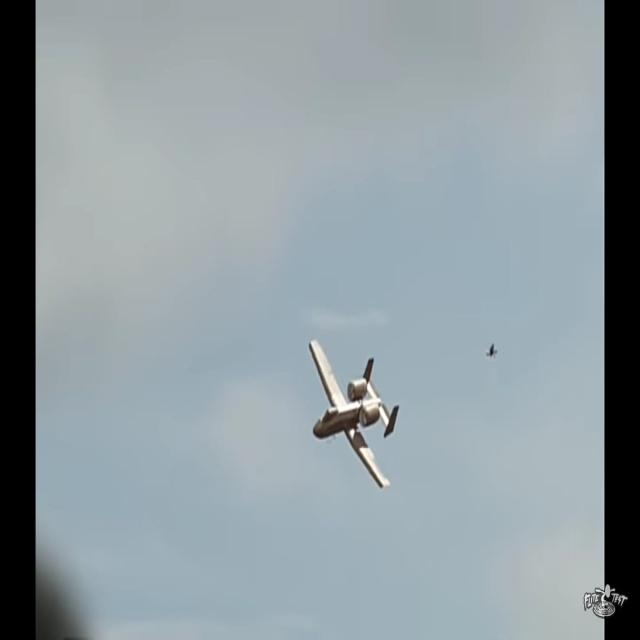iha: (340, 339, 368, 490)
